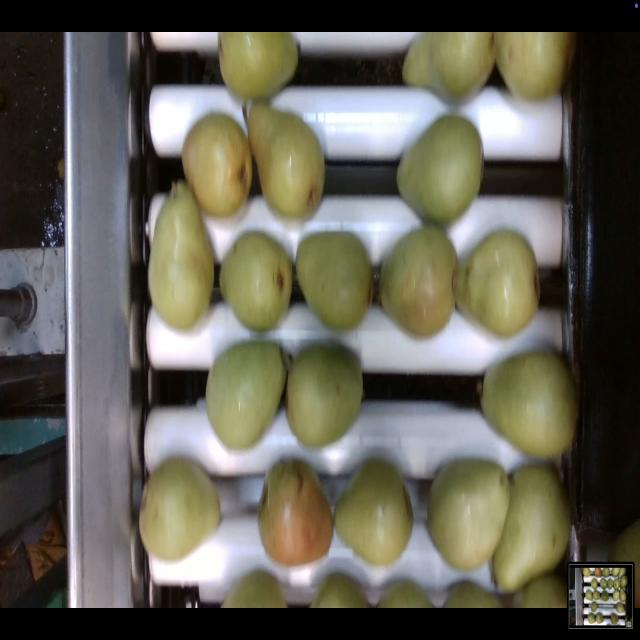pears: (424, 457, 515, 583), (488, 462, 572, 598), (480, 351, 578, 461), (148, 183, 217, 333), (396, 116, 484, 231), (255, 458, 337, 574), (206, 343, 290, 455), (247, 102, 325, 221), (456, 231, 540, 341), (138, 458, 222, 564), (380, 228, 458, 342), (332, 463, 413, 565), (296, 232, 373, 333), (180, 116, 256, 218), (220, 233, 295, 334), (402, 32, 499, 103), (289, 355, 359, 446), (495, 33, 576, 101), (220, 32, 299, 96)
